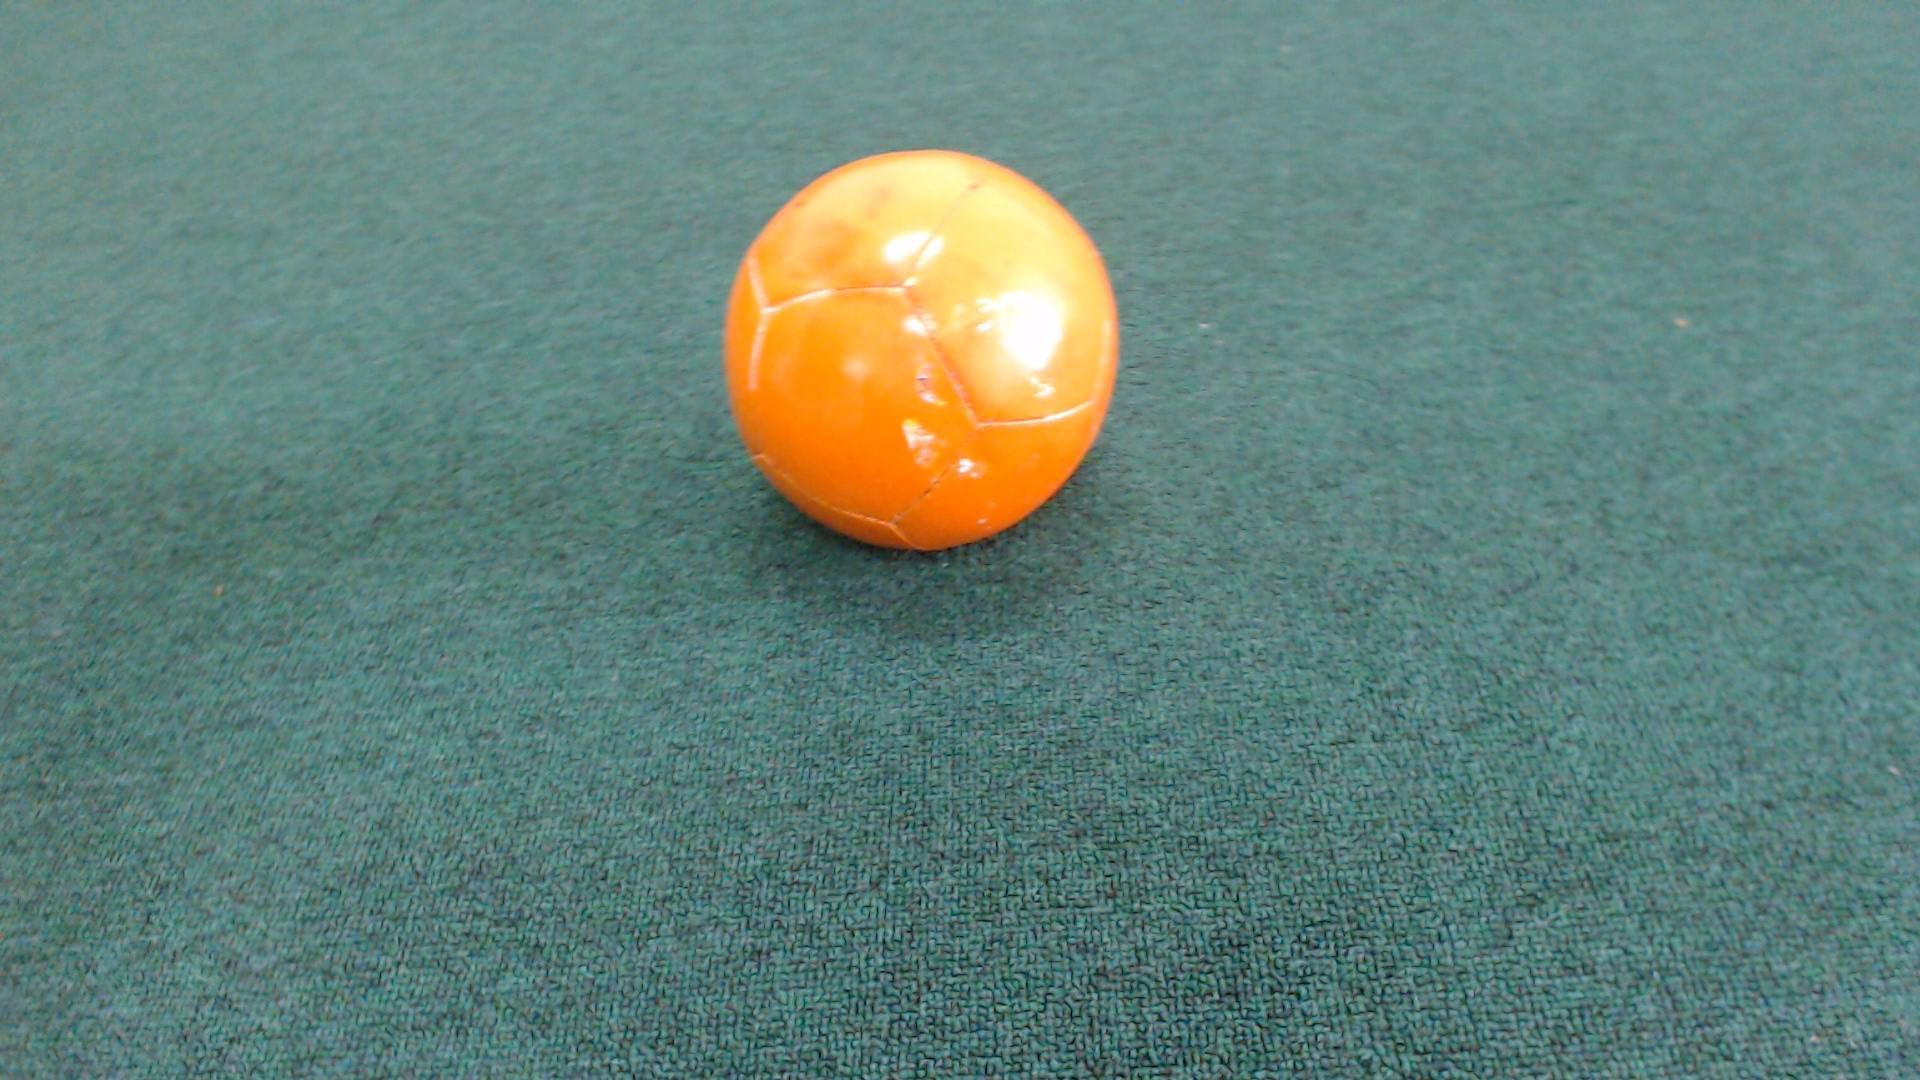bola: (695, 145, 1130, 588)
